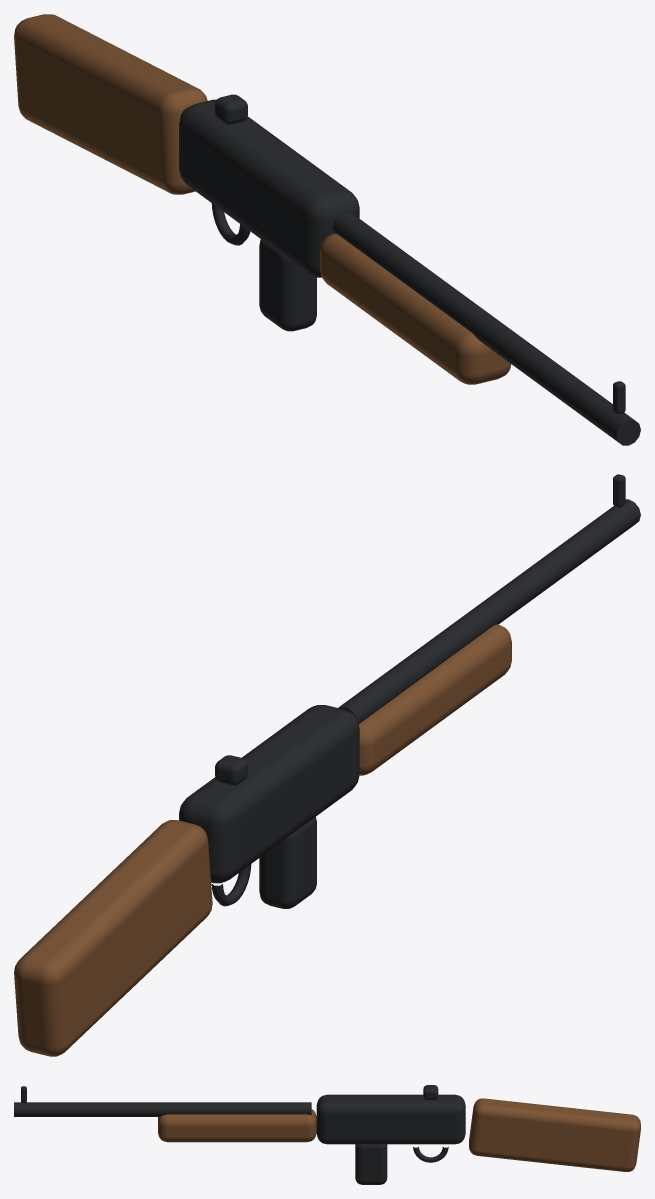
File: mule.glb
3 views of the same model, one above another, from view 1: azimuth 30°, elevation 25°; view 2: azimuth 150°, elevation 25°; view 3: azimuth 270°, elevation 25° (orthographic). The views are drawn at different scales.
Visible parts, largest first — view 1: Mule; view 2: Mule; view 3: Mule.
Part boxes in pixels (left/top/right/bottom): Mule: left=14, top=14, right=640, bottom=445; Mule: left=14, top=474, right=640, bottom=1056; Mule: left=14, top=1085, right=640, bottom=1184.
Bounding box in the file's own units: 0.066 × 0.2125 × 1.26.
